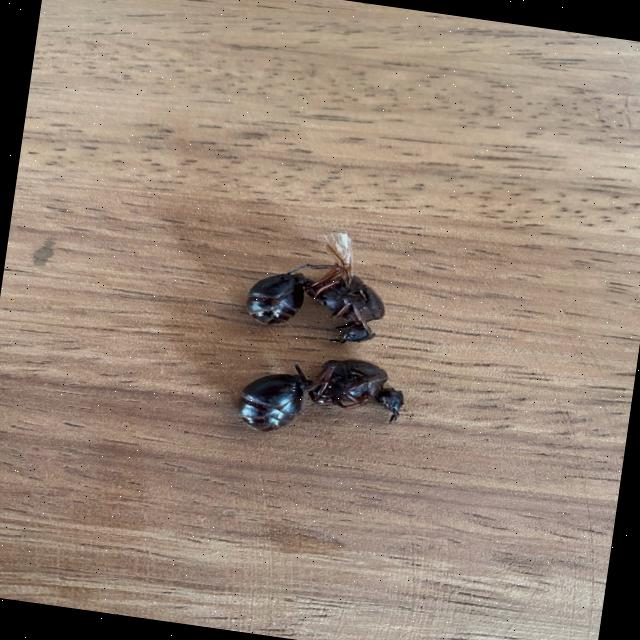Dead-Female-Alate: (242, 218, 396, 350)
Dead-Female-Dealate: (235, 344, 408, 452)
